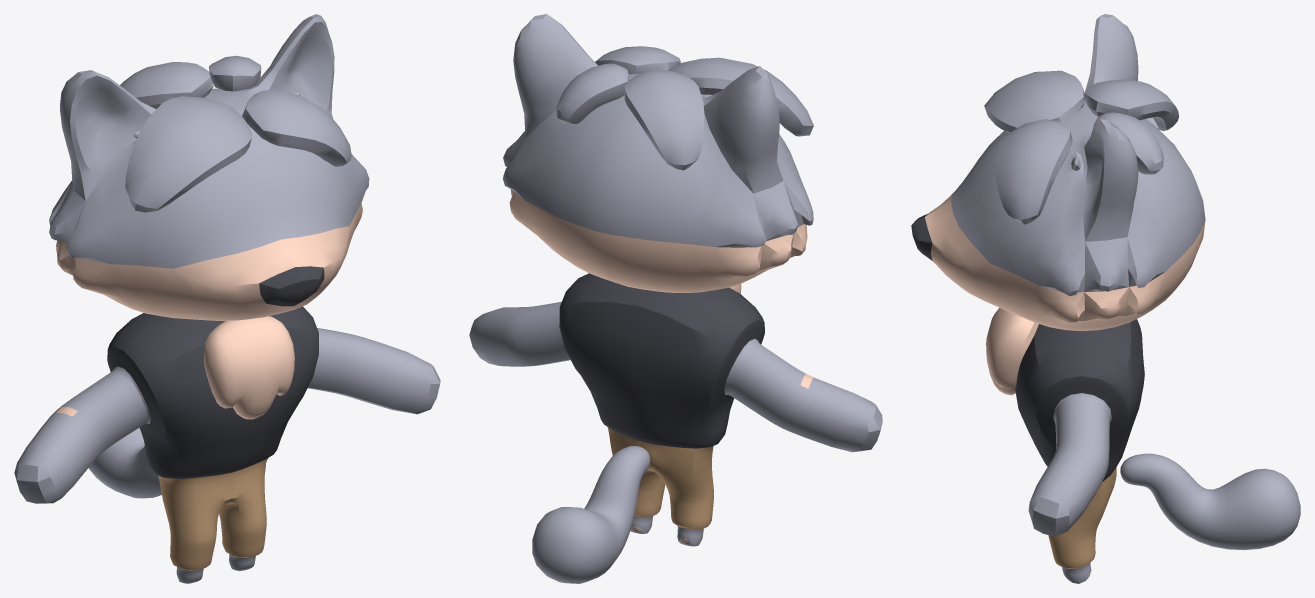
File: wolf.fbx
3 views of the same model, side by side, from view 1: azimuth 30°, elevation 25°; view 2: azimuth 150°, elevation 25°; view 3: azimuth 270°, elevation 25° (orthographic). The views are drawn at different scales.
Visible parts, largest first — view 1: Cube; view 2: Cube; view 3: Cube.
Boxes of the visible parts, box(x1,y1,x2,y2) form: Cube: box(14, 14, 440, 583); Cube: box(469, 14, 882, 583); Cube: box(911, 14, 1300, 583).
Size of the model in its own units: 107 by 127 by 89.39.
1 material, 1 textured.
